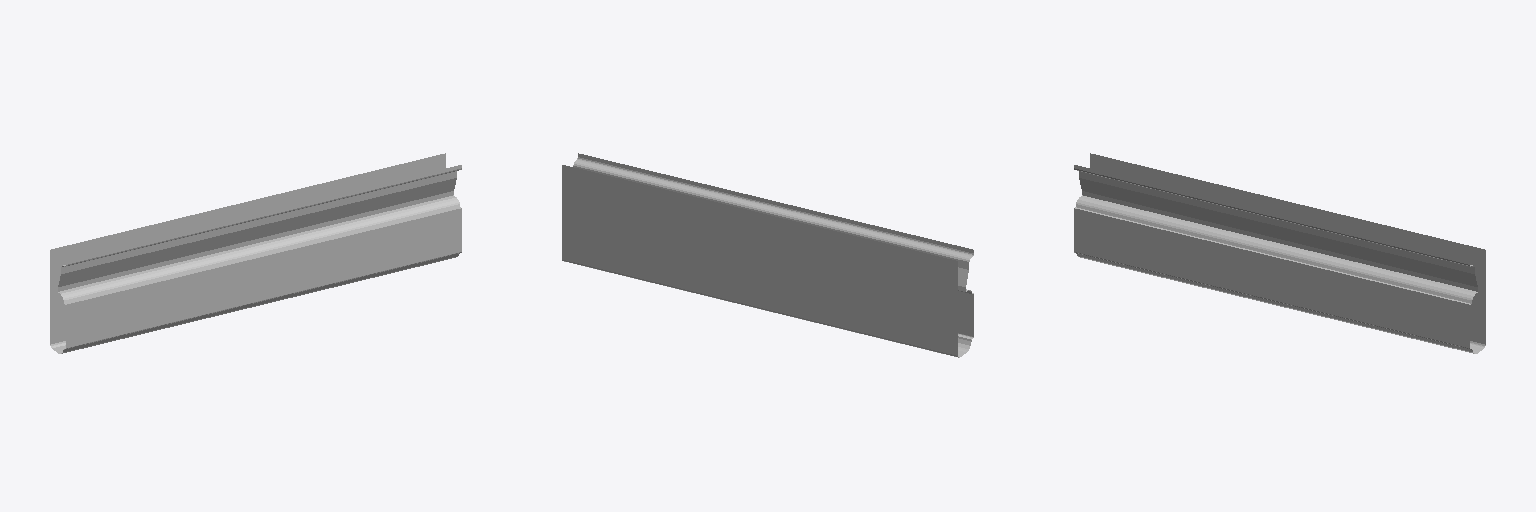
File: original-72.obj
The picture shows the model from 3 angles: view 1: azimuth 30°, elevation 25°; view 2: azimuth 150°, elevation 25°; view 3: azimuth 330°, elevation 25°; orthographic projection.
Parts seen in each view (by area): view 1: DF_11_BC2/DF_11_BC/mesh29/mesh29-geometry#mesh29-geometry; view 2: DF_11_BC2/DF_11_BC/mesh29/mesh29-geometry#mesh29-geometry; view 3: DF_11_BC2/DF_11_BC/mesh29/mesh29-geometry#mesh29-geometry.
Part boxes in pixels (left/top/right/bottom): DF_11_BC2/DF_11_BC/mesh29/mesh29-geometry#mesh29-geometry: left=50, top=153, right=461, bottom=353; DF_11_BC2/DF_11_BC/mesh29/mesh29-geometry#mesh29-geometry: left=562, top=153, right=973, bottom=357; DF_11_BC2/DF_11_BC/mesh29/mesh29-geometry#mesh29-geometry: left=1074, top=153, right=1485, bottom=353.
Size of the model in its own units: 0.3955 by 0.0933 by 0.027.